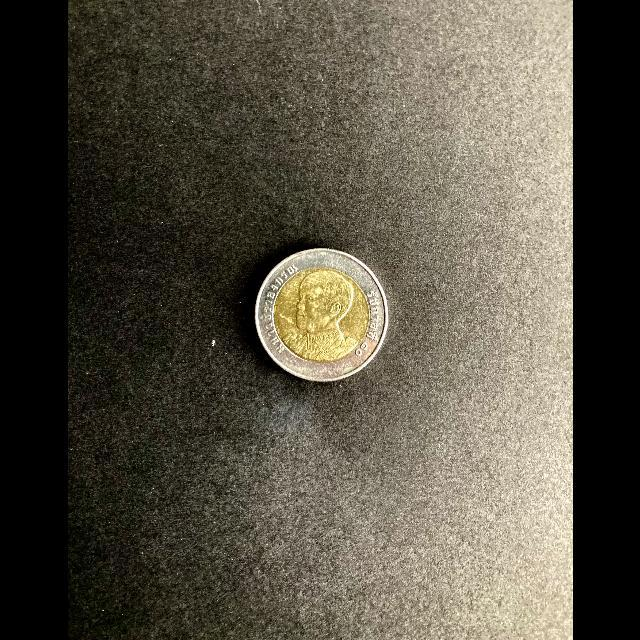10 Bath: (254, 248, 394, 389)
